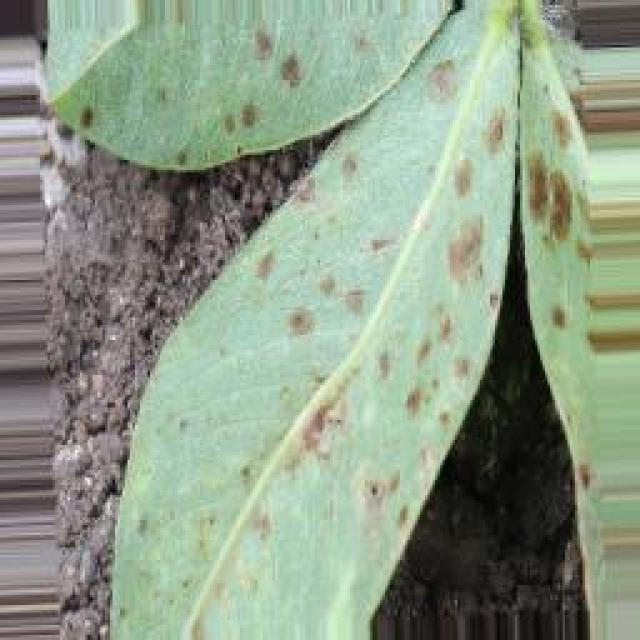Whitefly: (72, 0, 632, 588)
